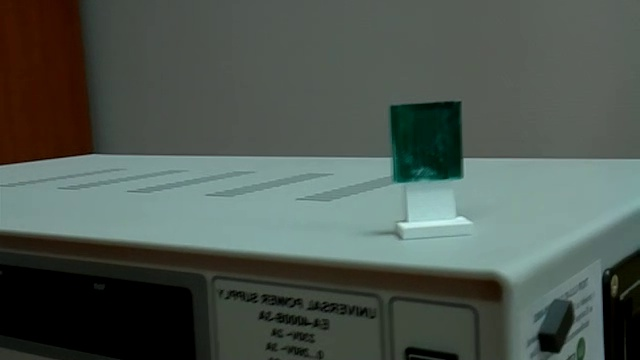rect: (381, 93, 476, 243)
